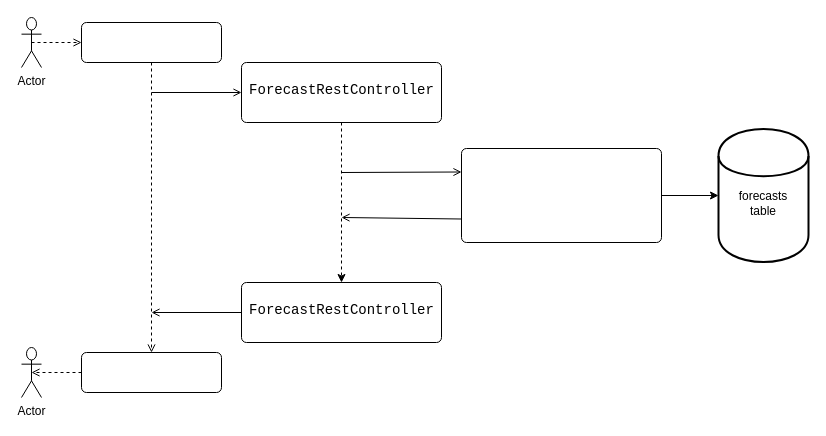
Some shapes in this 826 by 436 pixel diagram are drawn without their labels. The shapes that lost their labels are listed below. From the top down, each one's centre as x and y in pixels, then its label:
At pixel 151 42: "GET request".
At pixel 561 195: "forecastService startSeedingForecastFor ()".
At pixel 151 372: "HTML response".
